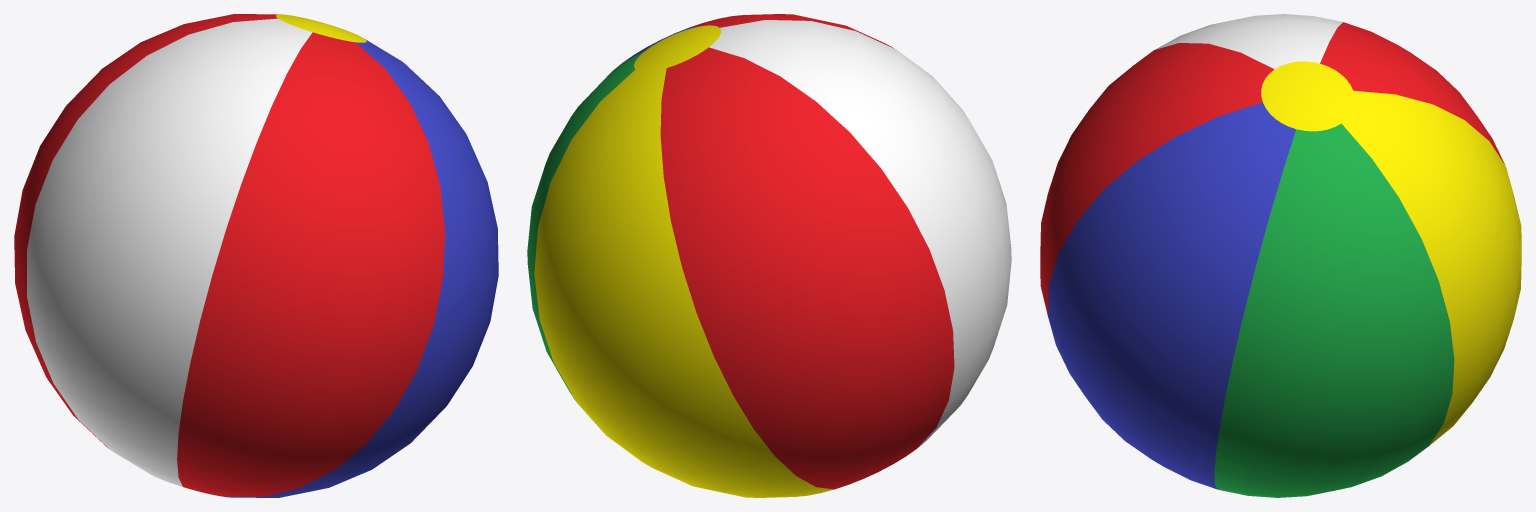
File: BeachBall.fbx
3 renders of one model, left to right at view 1: azimuth 30°, elevation 25°; view 2: azimuth 150°, elevation 25°; view 3: azimuth 270°, elevation 25°, orthographic.
Visible parts, largest first — view 1: sphere2; view 2: sphere2; view 3: sphere2.
Part boxes in pixels (left/top/right/bottom): sphere2: left=14, top=14, right=498, bottom=497; sphere2: left=527, top=14, right=1011, bottom=497; sphere2: left=1040, top=14, right=1521, bottom=497.
Bounding box in the file's own units: 3.86 × 3.86 × 3.83.
Materials: 1 (1 with a texture image).
